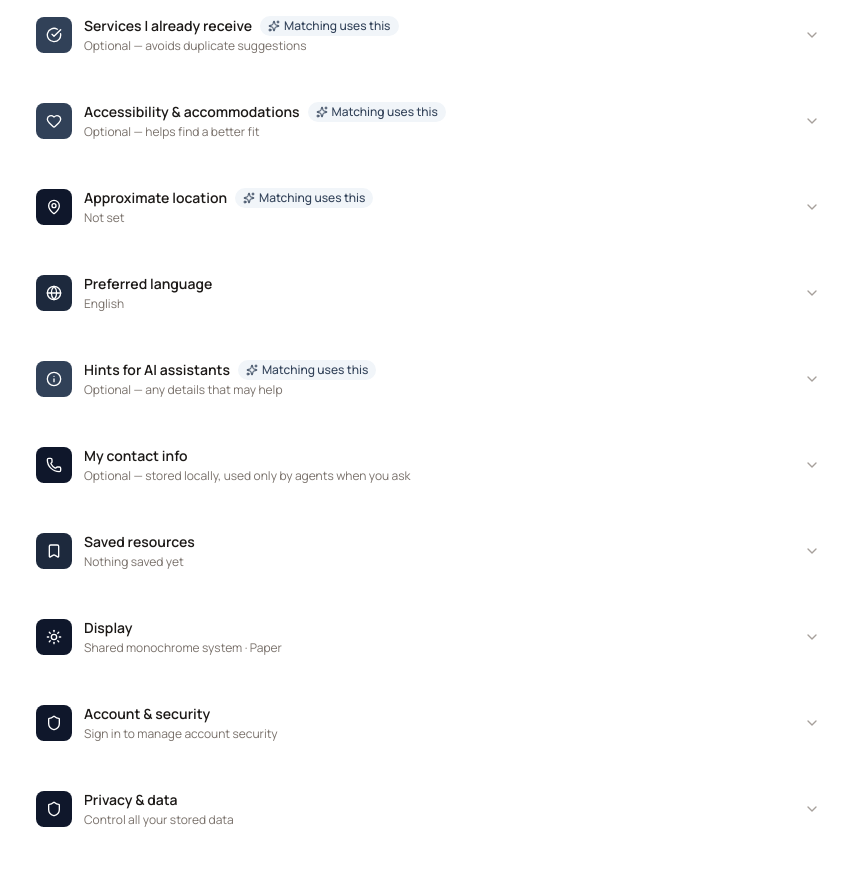
Test: ProfilePageClient › personalizes the saved-empty browse link from the seeker service interest
The image size is (857, 871).
(page scrolled)
Click the button "Saved resources Nothing saved yet" at (54, 551), box [16,516,840,586]
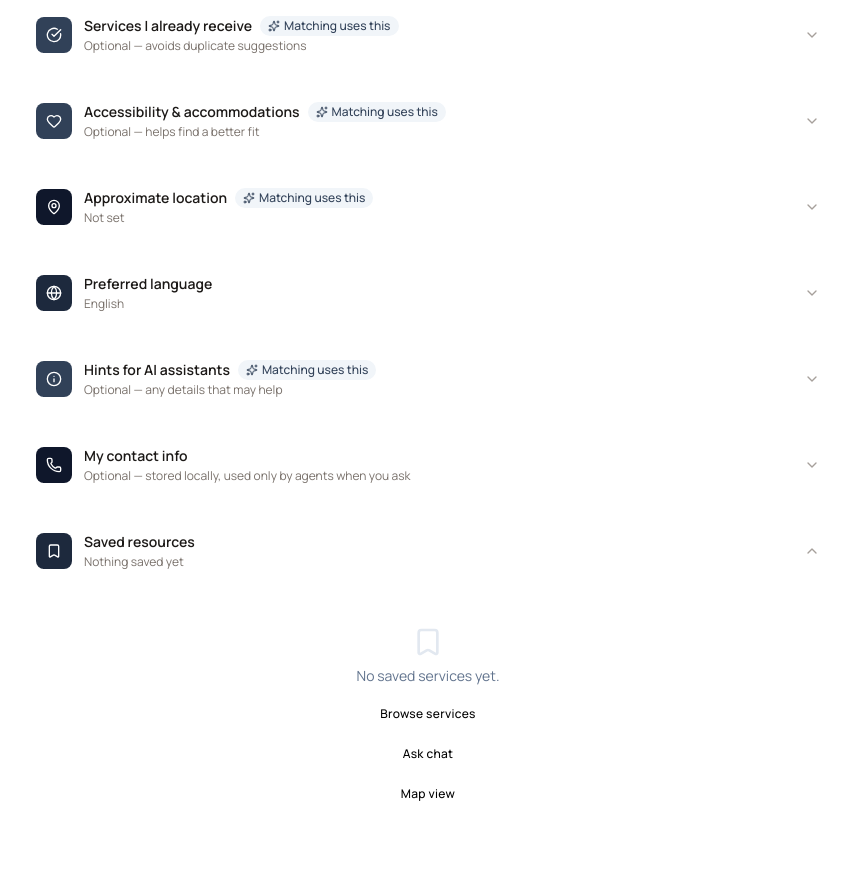
Now the text "No saved services yet." is shown, box [356,666,499,685]
